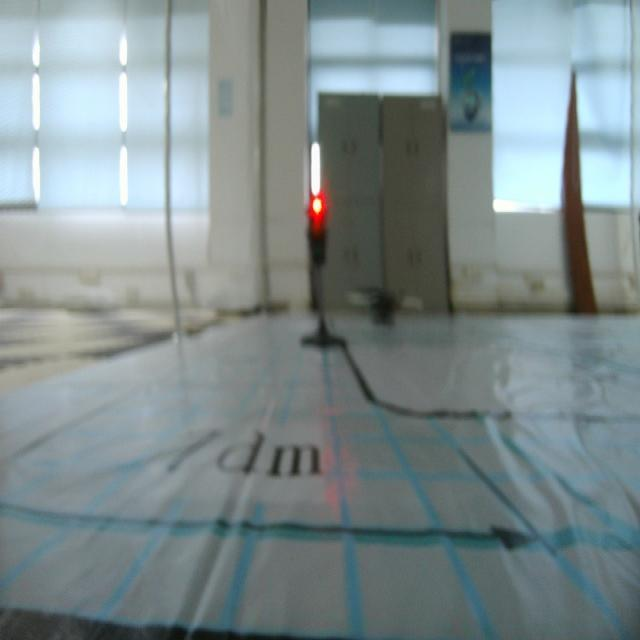red: (305, 187, 330, 271)
